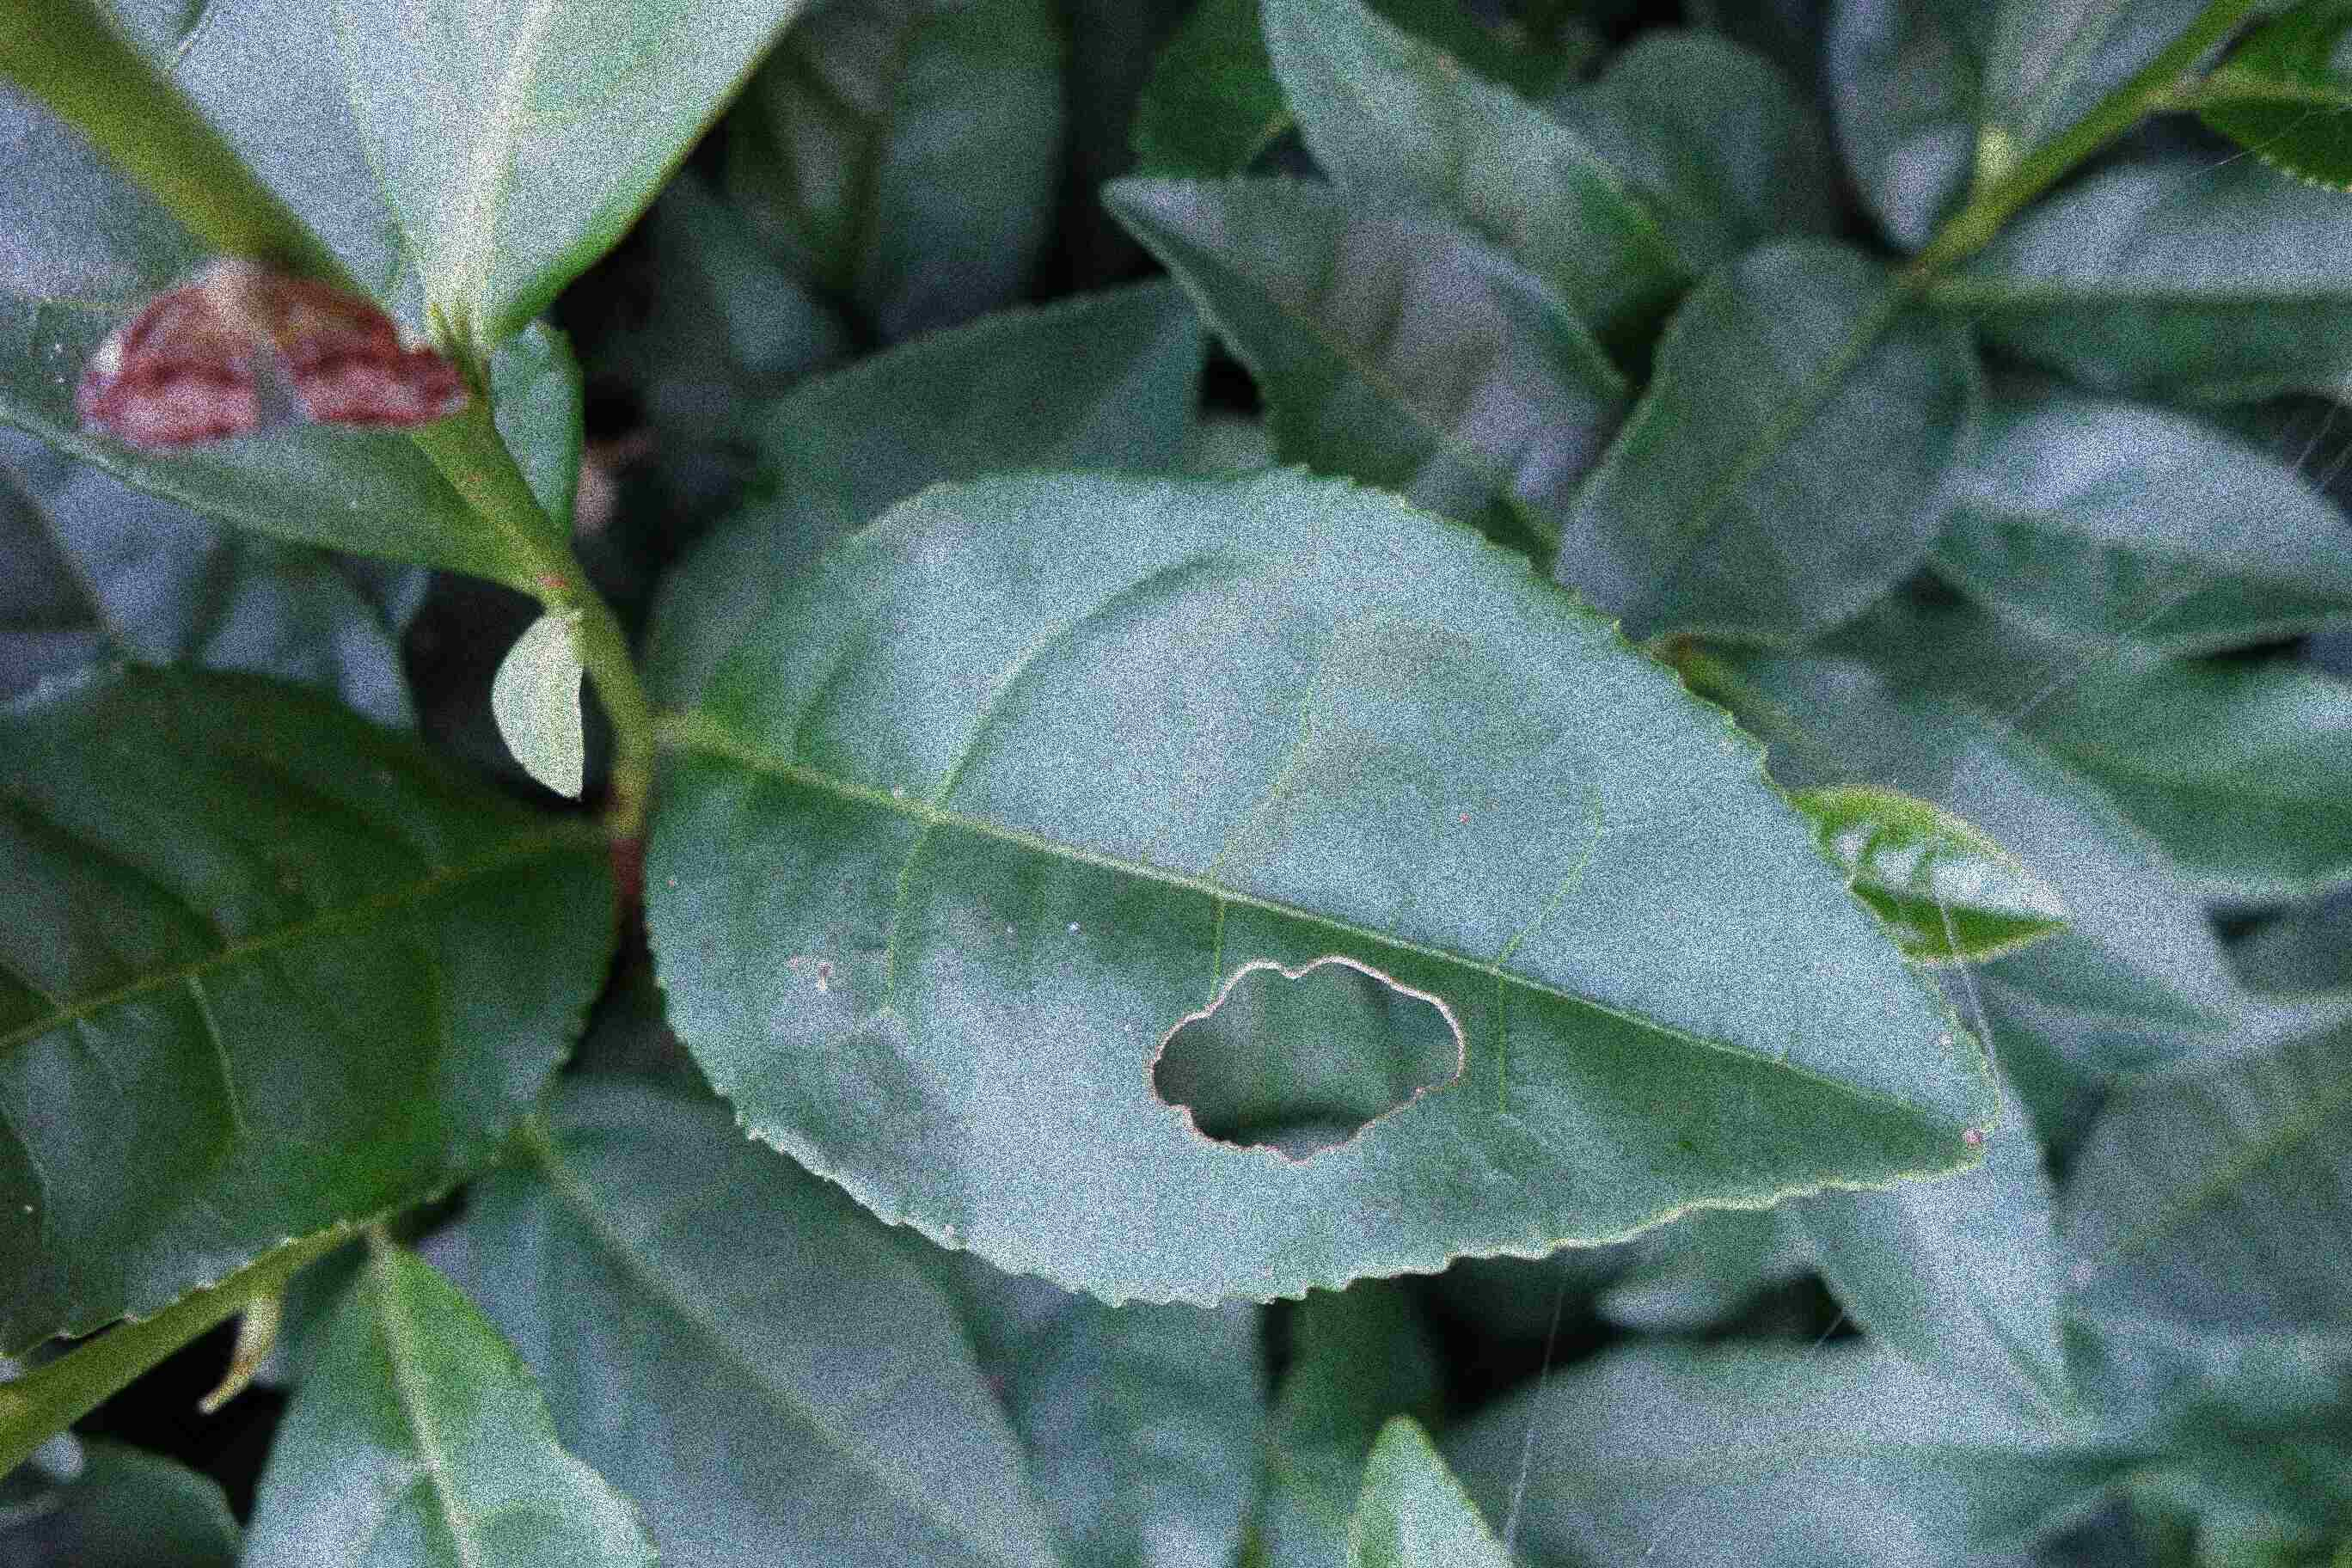chihuo_low: (633, 464, 1998, 1309)
